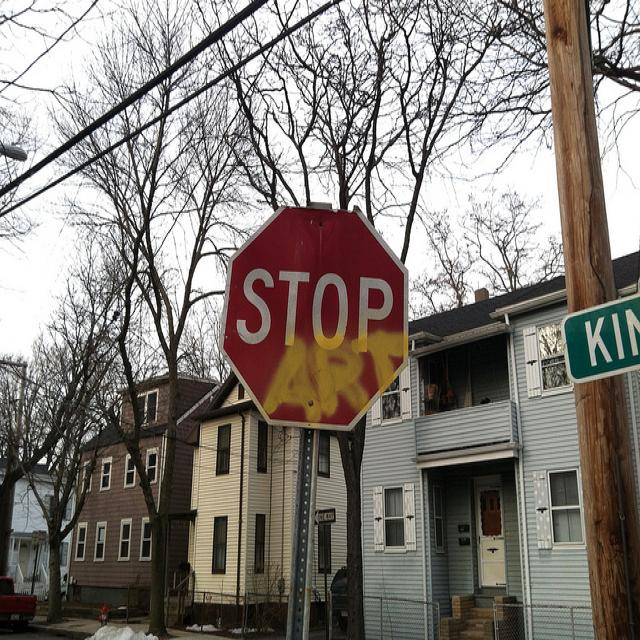Vehicle: (0, 576, 37, 632), (329, 566, 348, 630), (22, 583, 47, 595)
